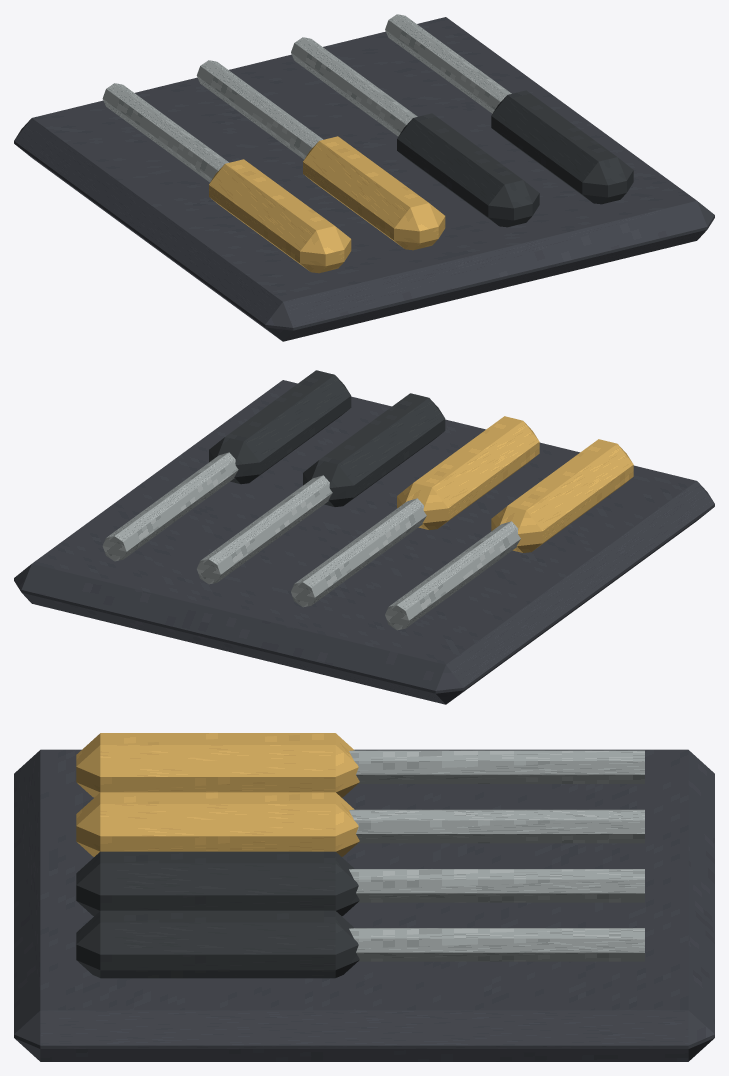
The model's file is screwdriver_set.glb.
The picture shows the model from 3 angles, top to bottom: view 1: azimuth 30°, elevation 25°; view 2: azimuth 150°, elevation 25°; view 3: azimuth 270°, elevation 25°; orthographic projection. The views are drawn at different scales.
Parts seen in each view (by area): view 1: block_recessed kit tray, block_molded grip (×4), block_screwdriver shaft (×4); view 2: block_recessed kit tray, block_molded grip (×4), block_screwdriver shaft (×4); view 3: block_recessed kit tray, block_molded grip (×4), block_screwdriver shaft (×4).
Part boxes in pixels (x1=…): block_recessed kit tray: x1=14, y1=17, x2=714, y2=341; block_molded grip (×4): x1=209, y1=90, x2=633, y2=273; block_screwdriver shaft (×4): x1=102, y1=14, x2=511, y2=182; block_recessed kit tray: x1=14, y1=380, x2=714, y2=704; block_molded grip (×4): x1=209, y1=370, x2=633, y2=552; block_screwdriver shaft (×4): x1=102, y1=452, x2=520, y2=630; block_recessed kit tray: x1=14, y1=749, x2=714, y2=1061; block_molded grip (×4): x1=76, y1=733, x2=359, y2=978; block_screwdriver shaft (×4): x1=349, y1=750, x2=644, y2=961.
Bounding box in the file's own units: 0.2676 × 0.0457 × 0.28.
1 material, 1 textured.
